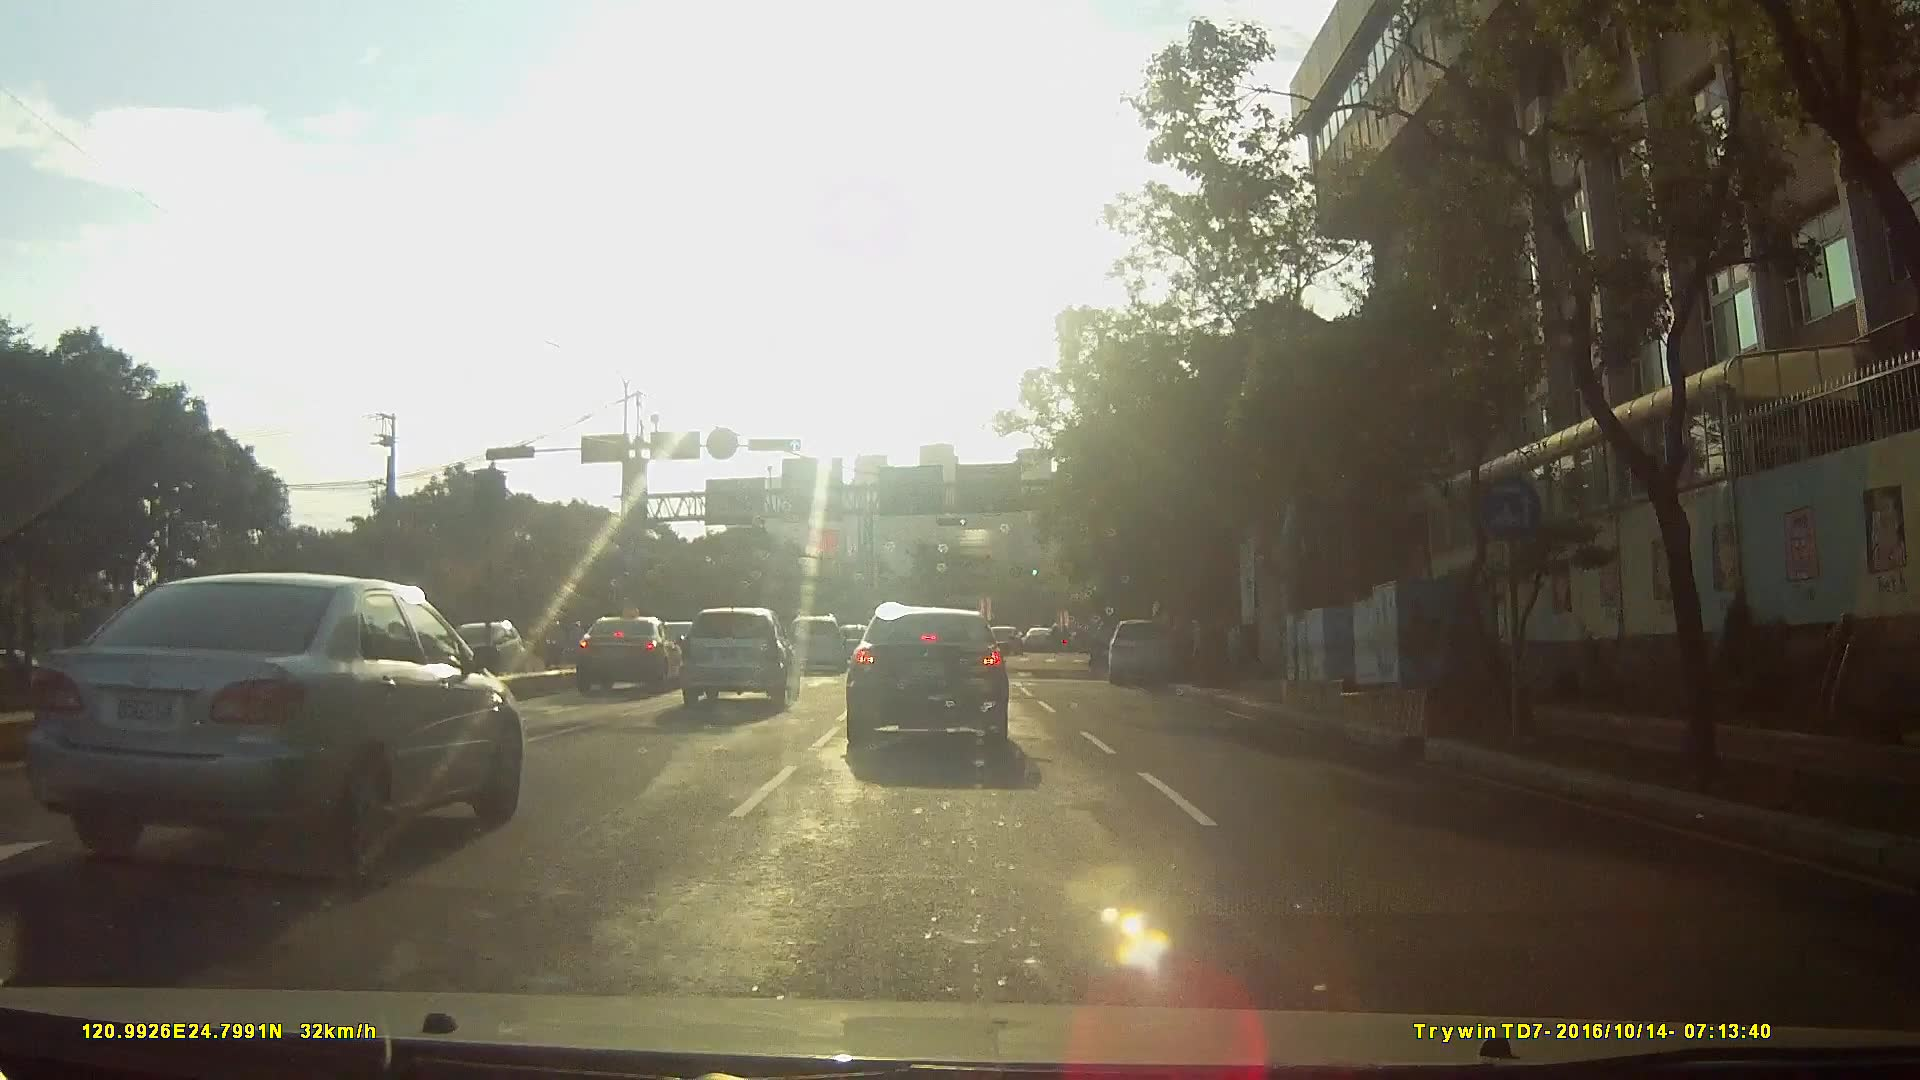vehicle: (28, 551, 534, 878), (835, 603, 1025, 767), (673, 592, 799, 699), (554, 600, 670, 684), (440, 607, 527, 675), (1108, 603, 1185, 673), (783, 603, 851, 662), (989, 615, 1029, 646), (1022, 615, 1064, 642)
